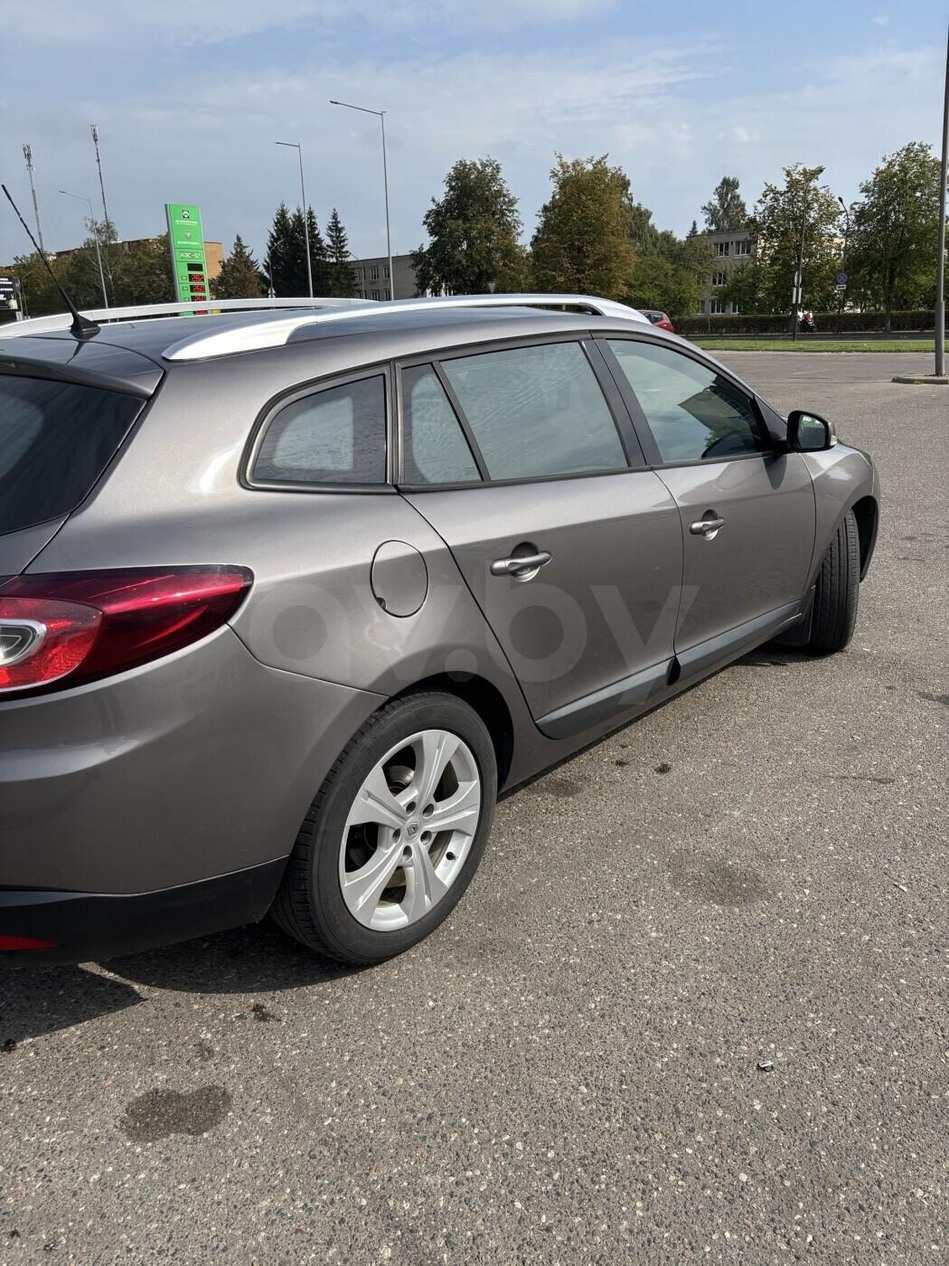Megane_2008-2014: (0, 284, 895, 984)
